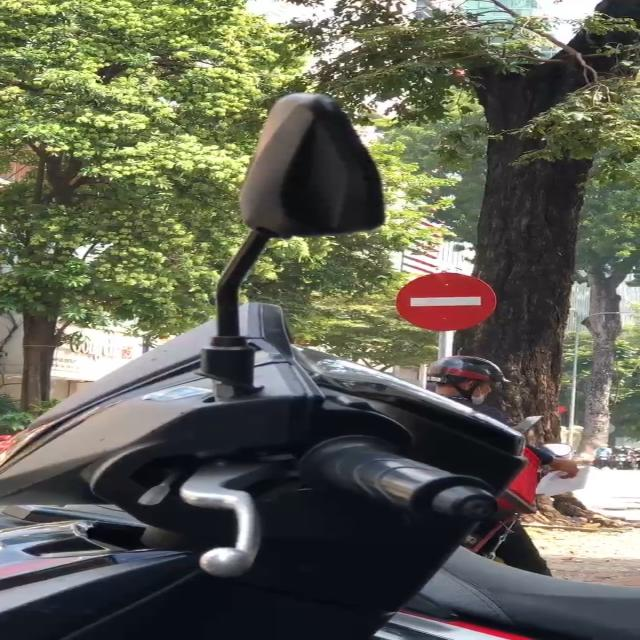Bien bao cam di nguoc chieu: (392, 269, 508, 334)
